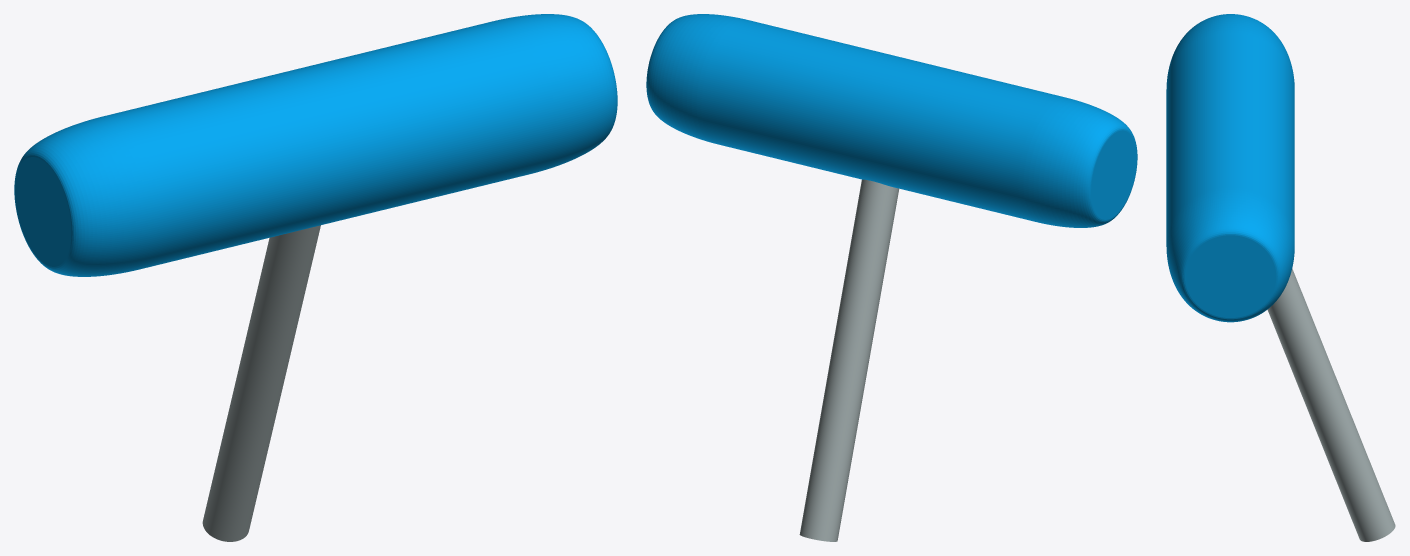
The model's file is Lever_Blue.glb.
The picture shows the model from 3 angles, left to right: view 1: azimuth 30°, elevation 25°; view 2: azimuth 150°, elevation 25°; view 3: azimuth 270°, elevation 25°; orthographic projection. The views are drawn at different scales.
Visible parts, largest first — view 1: Lever Top, Lever Body; view 2: Lever Top, Lever Body; view 3: Lever Top, Lever Body.
Part boxes in pixels (x1=…): Lever Top: x1=14, y1=14, x2=617, y2=276; Lever Body: x1=202, y1=225, x2=320, y2=541; Lever Top: x1=646, y1=14, x2=1137, y2=227; Lever Body: x1=799, y1=179, x2=899, y2=541; Lever Top: x1=1166, y1=14, x2=1294, y2=322; Lever Body: x1=1267, y1=268, x2=1395, y2=541.
Bounding box in the file's own units: 0.2 × 0.1839 × 0.0892.
